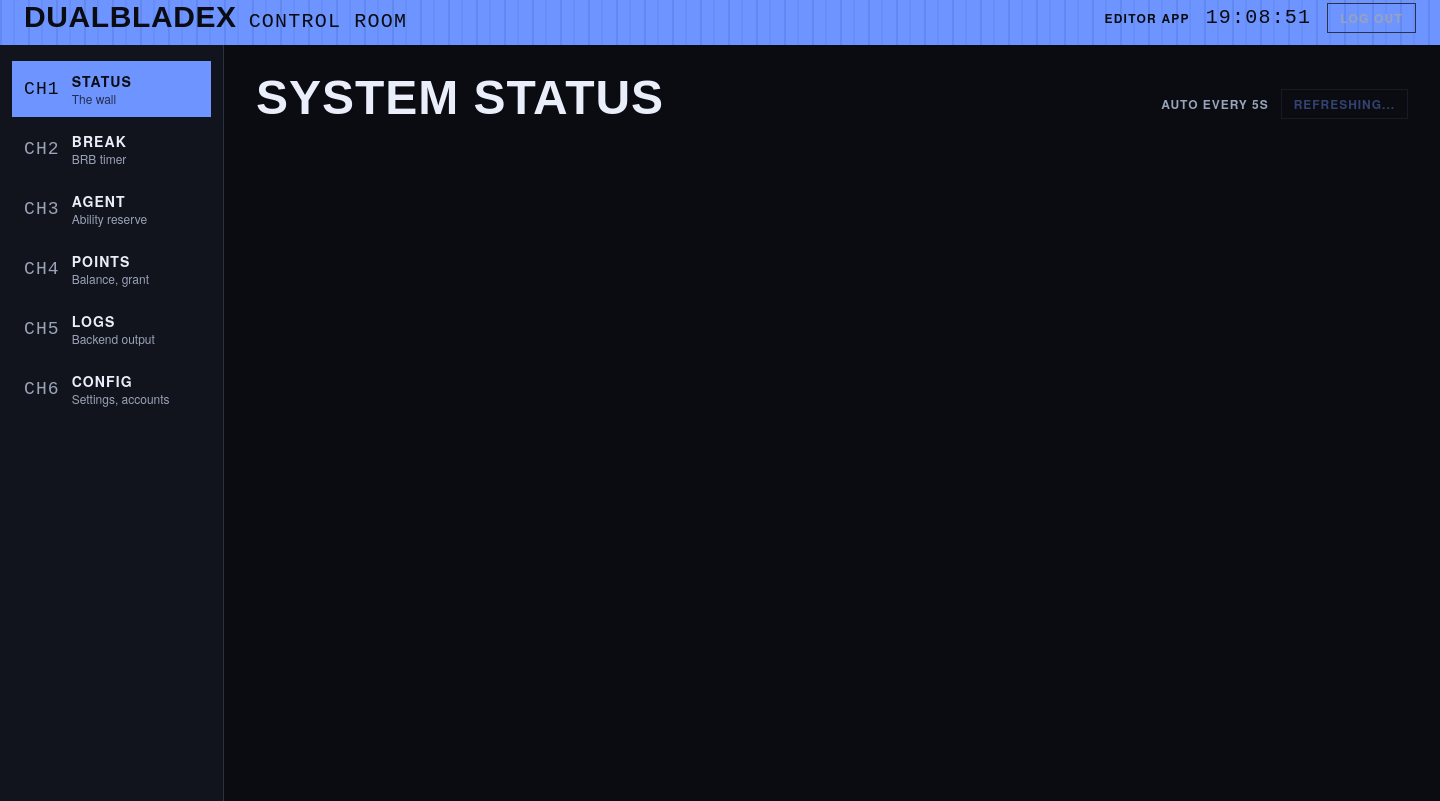
AdminDashboard › switches to the Config tab and loads the real config editor
Click the text "Config" at {"x": 102, "y": 381}, box [72, 371, 133, 391]
(page scrolled)
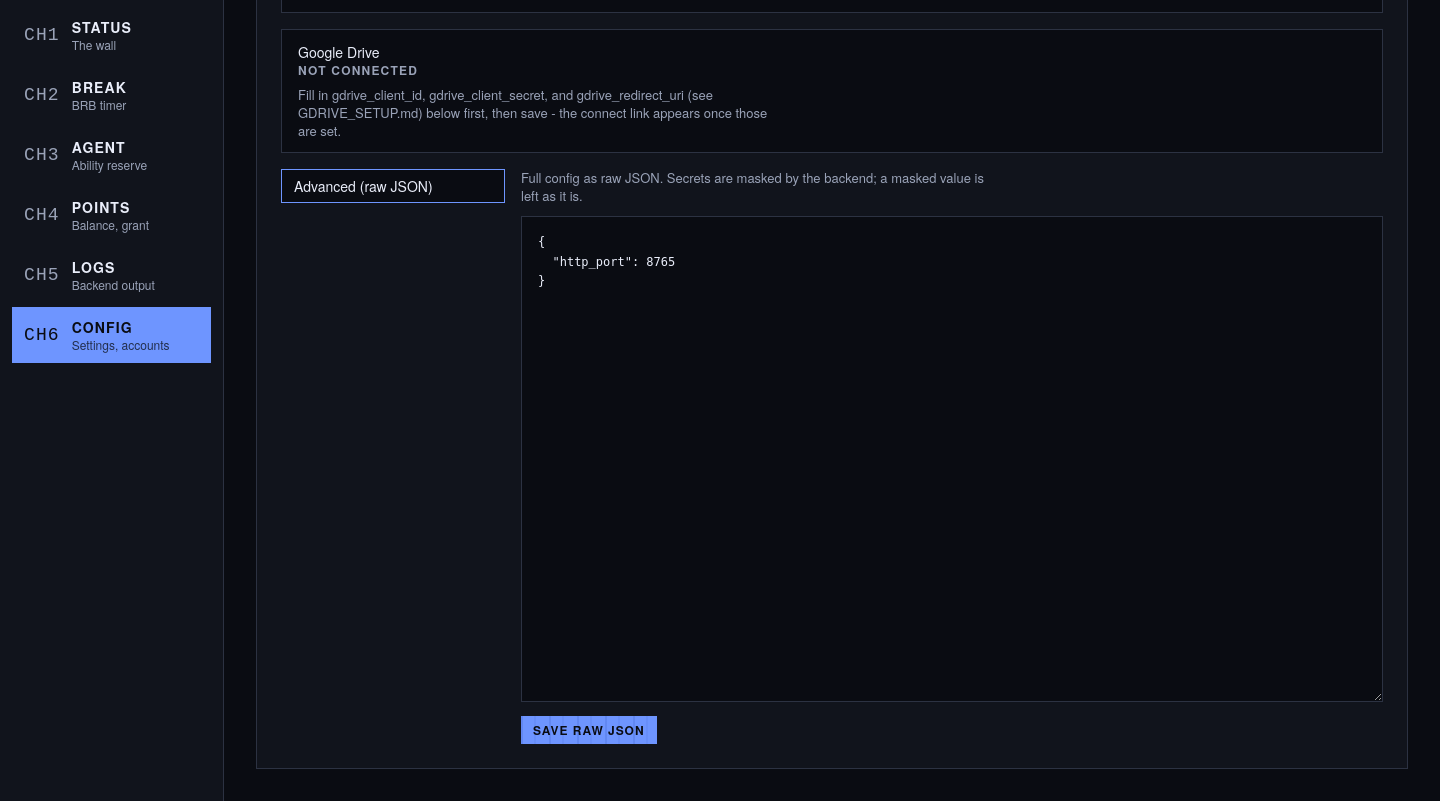
Result: the navigation bar named "Settings sections" is shown at [281, 169, 505, 203]
